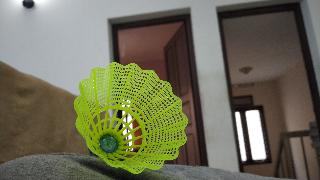shuttlecock: (74, 61, 188, 173)
